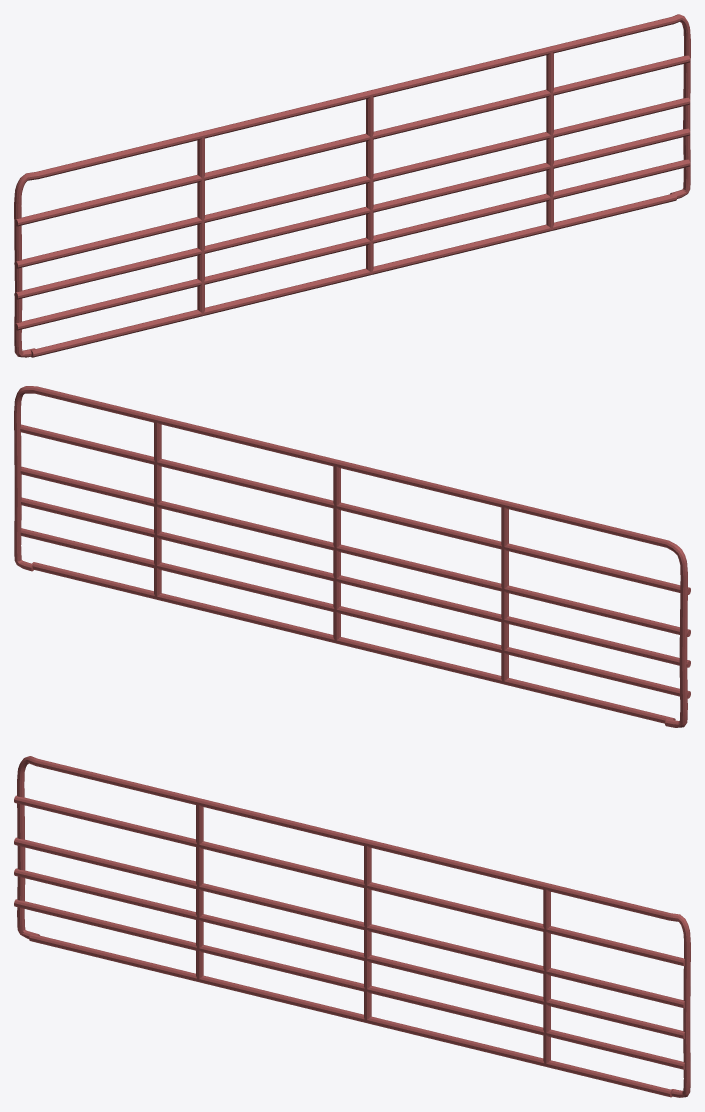
The model's file is tor_gatter.fbx.
3 renders of one model, top to bottom at view 1: azimuth 30°, elevation 25°; view 2: azimuth 150°, elevation 25°; view 3: azimuth 330°, elevation 25°, orthographic.
Visible parts, largest first — view 1: group5; view 2: group5; view 3: group5.
Part boxes in pixels (x1=…): group5: x1=14, y1=14, x2=690, y2=357; group5: x1=14, y1=386, x2=690, y2=727; group5: x1=14, y1=756, x2=690, y2=1097.
Size of the model in its own units: 7.29 by 1.9 by 0.1014.
